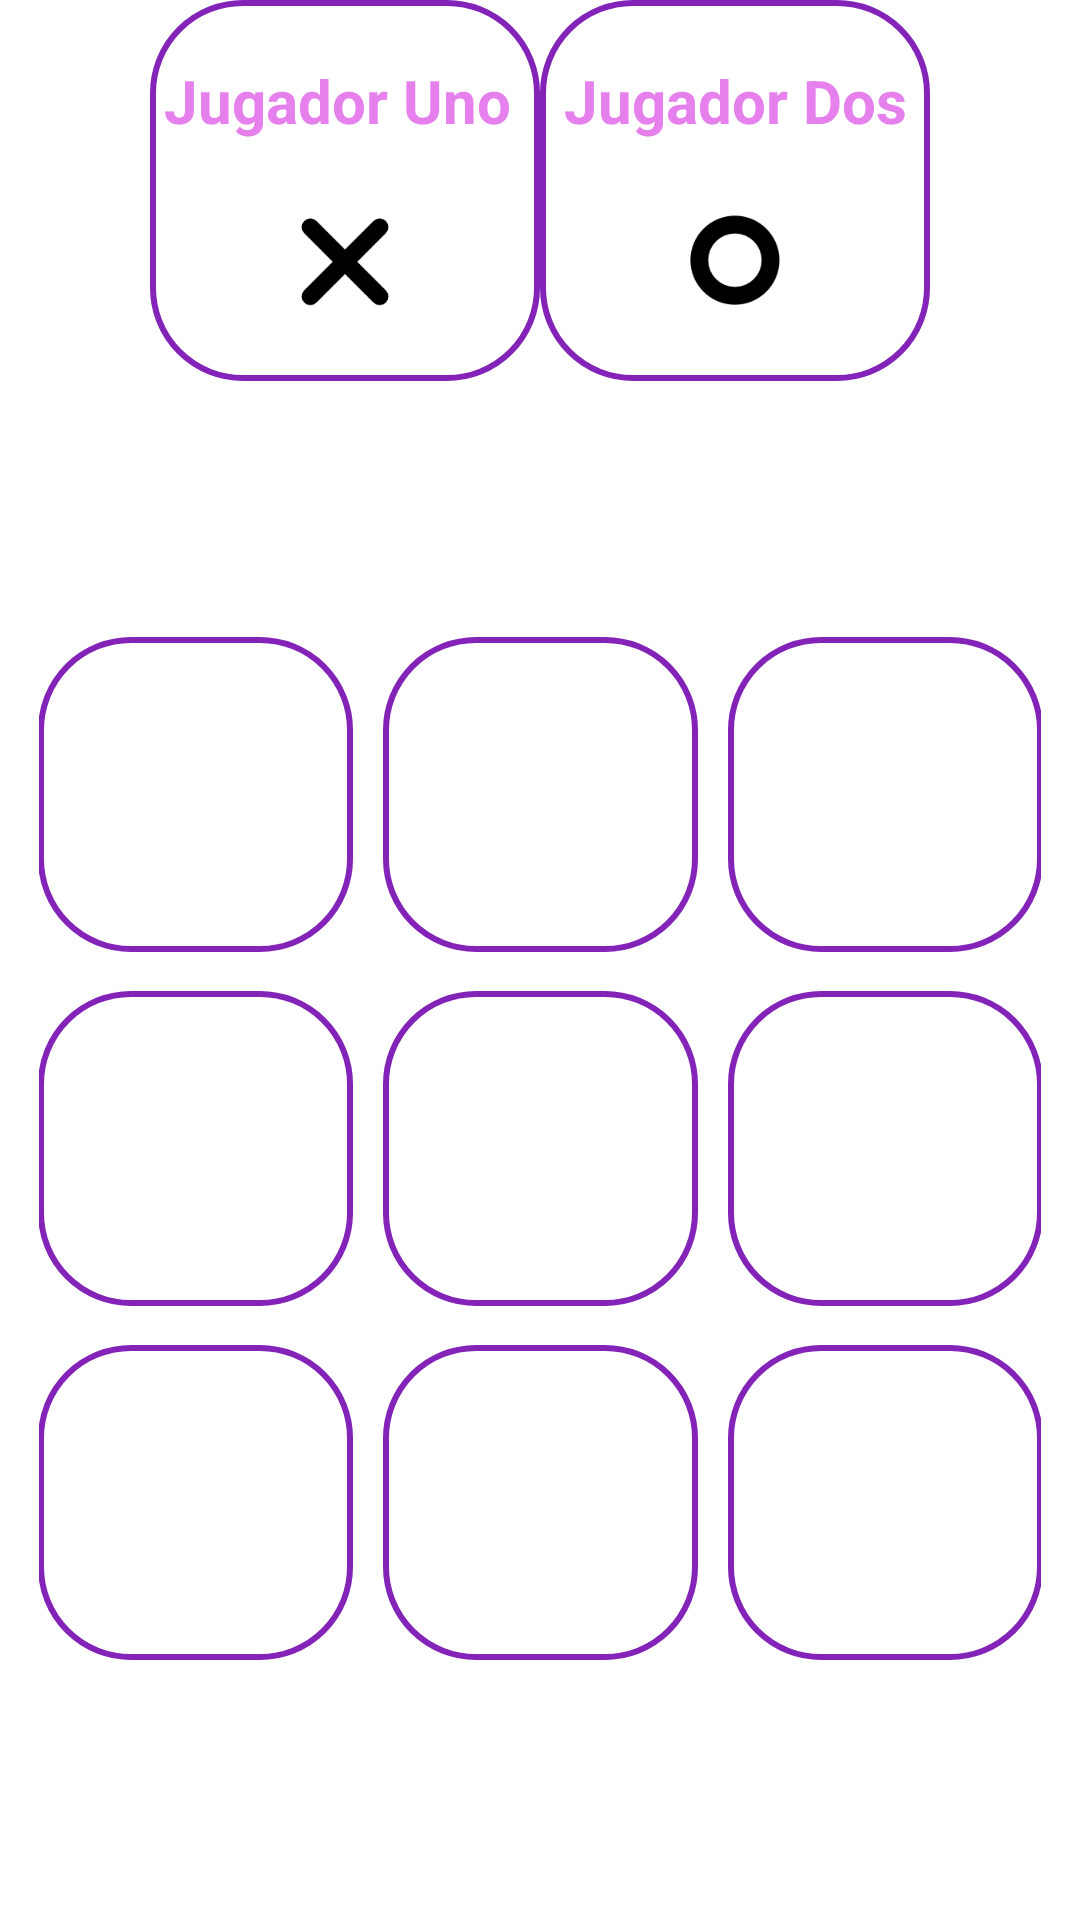

Icons on this 1080px x 1920px Android screen, each with its box as box(x1, y1, x2, y2):
circulo: box(690, 215, 780, 305)
cruz: box(301, 218, 389, 306)
